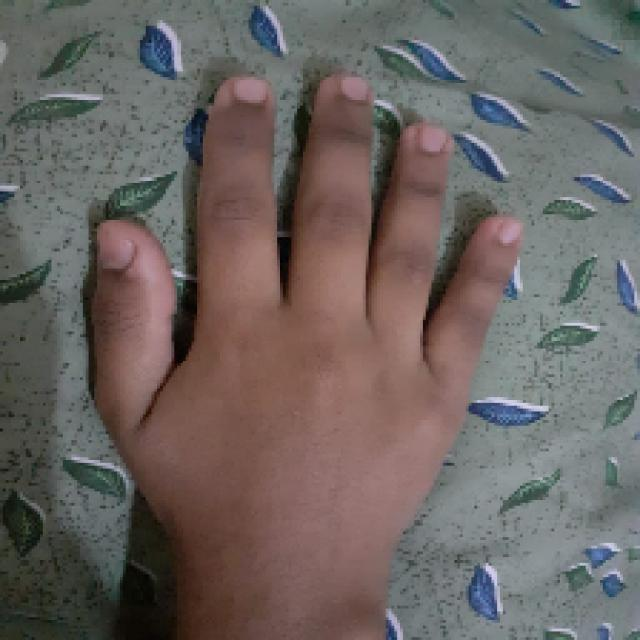Nail: (98, 221, 135, 270), (232, 78, 269, 105), (420, 124, 448, 153), (339, 76, 369, 101), (498, 218, 521, 245)
